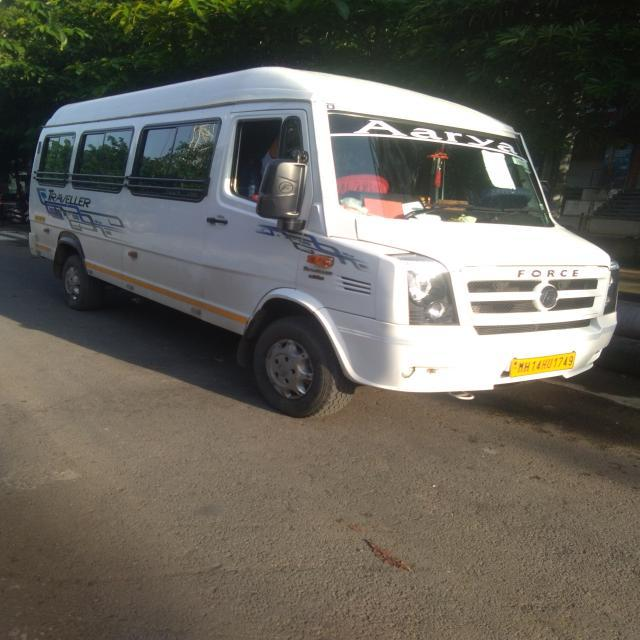Travller: (33, 72, 626, 428)
